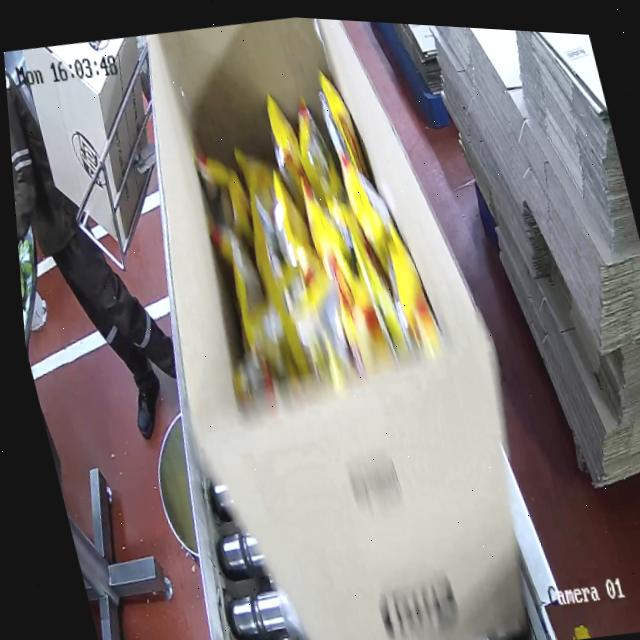SALTED: (167, 78, 440, 389)
